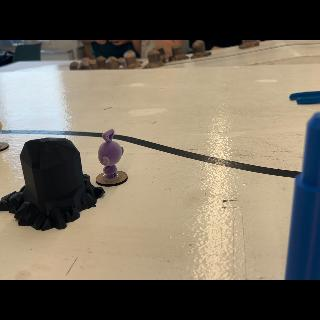teletubby: (98, 129, 124, 178), (0, 120, 2, 132)
